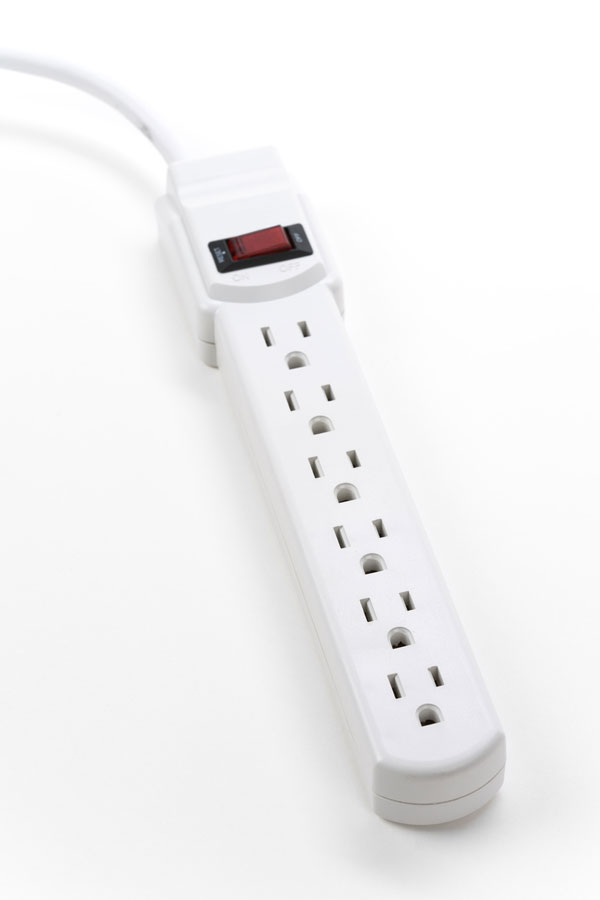Three_eye_plug: (141, 130, 514, 842)
